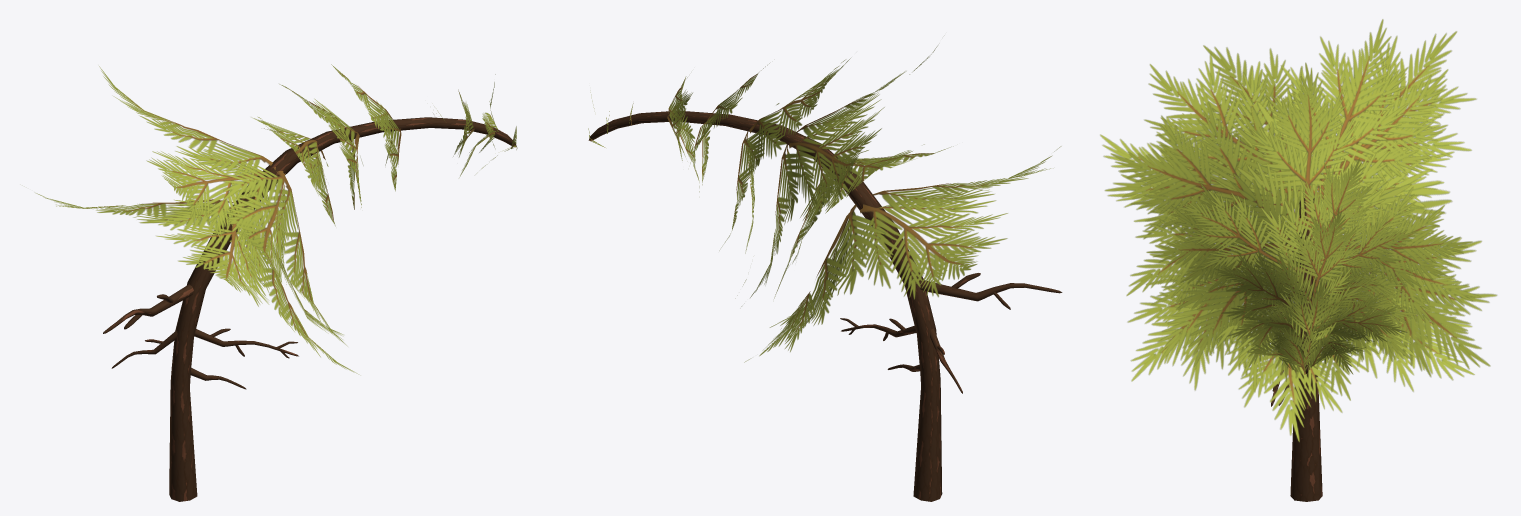
Rendered from pinetree_4.glb.
The picture shows the model from 3 angles, left to right: view 1: azimuth 30°, elevation 25°; view 2: azimuth 150°, elevation 25°; view 3: azimuth 270°, elevation 25°; orthographic projection. The views are drawn at different scales.
Parts seen in each view (by area): view 1: PineTree_4; view 2: PineTree_4; view 3: PineTree_4.
Boxes of the visible parts, x1,y1,x2,y2 form: PineTree_4: [36, 64, 517, 501]; PineTree_4: [588, 46, 1062, 501]; PineTree_4: [1100, 19, 1497, 501].
Bounding box in the file's own units: 4.84 × 4.48 × 3.25.
2 materials, 2 textured.
